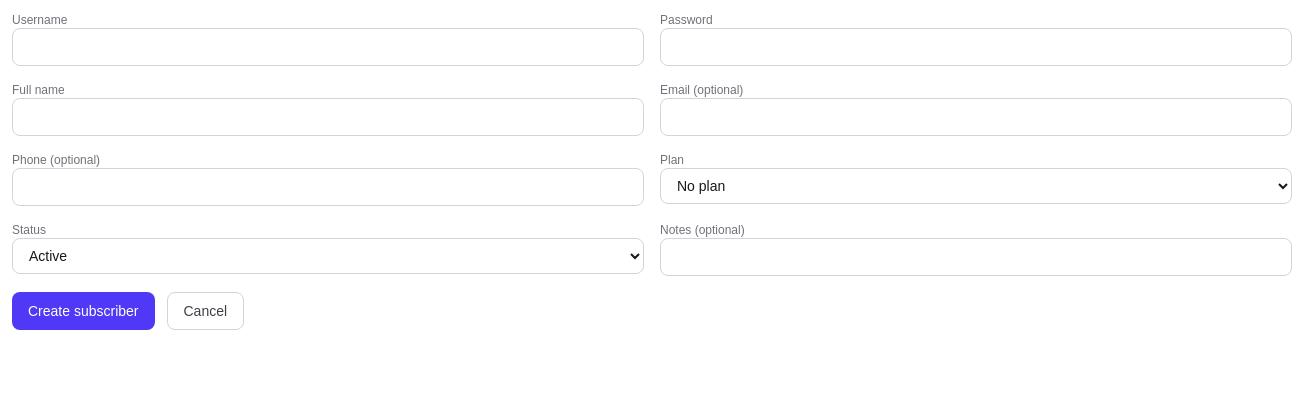
it: SubscriberForm (create) › validates required fields before submitting
Click the button "Create subscriber": [83, 311] box [12, 292, 154, 330]
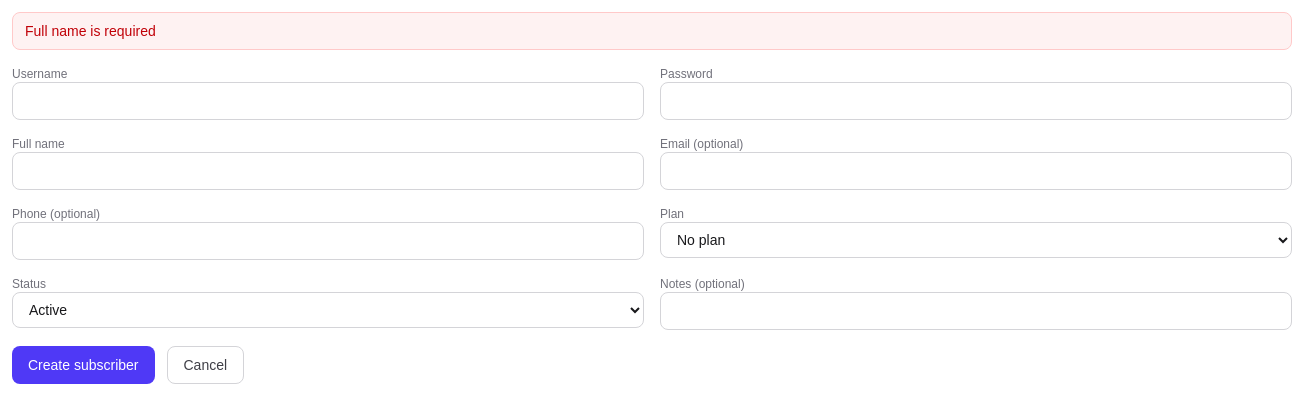
Expected: the message reads "Full name is required", [25, 23, 156, 39]
